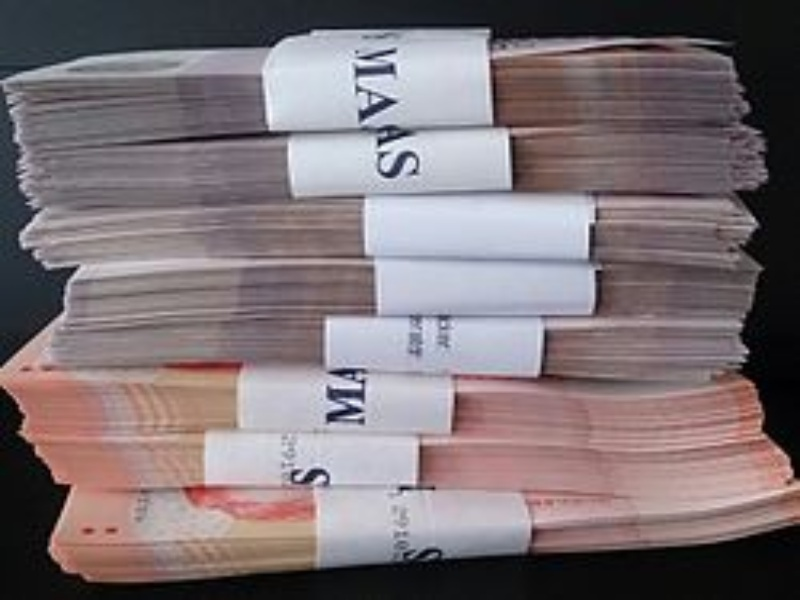cash: (1, 29, 800, 584)
